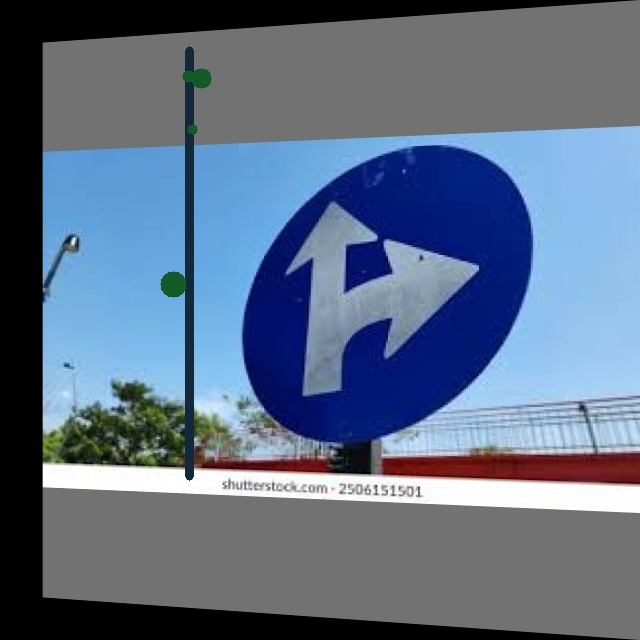Compulsory_Ahead_or_Turn_Right: (247, 153, 522, 454)
